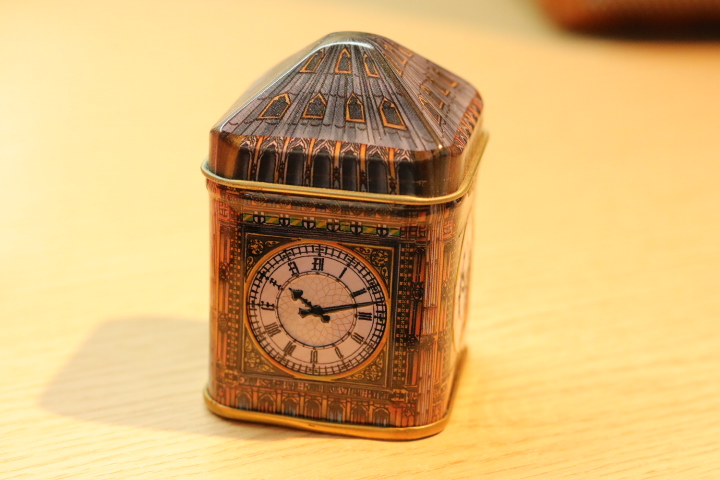Big Ben: (194, 26, 514, 460)
